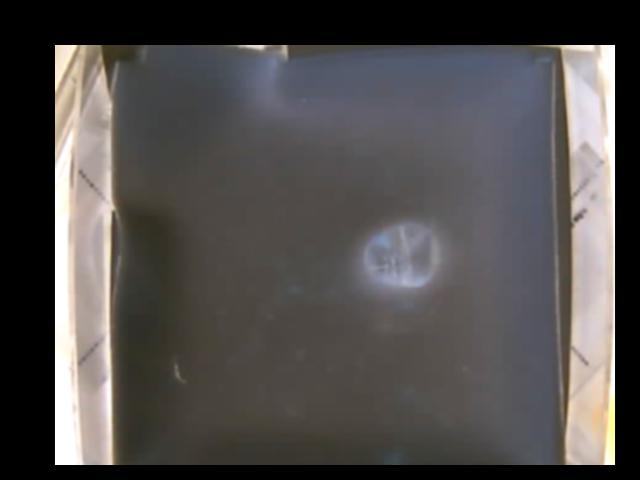Pebble: (364, 223, 436, 288)
